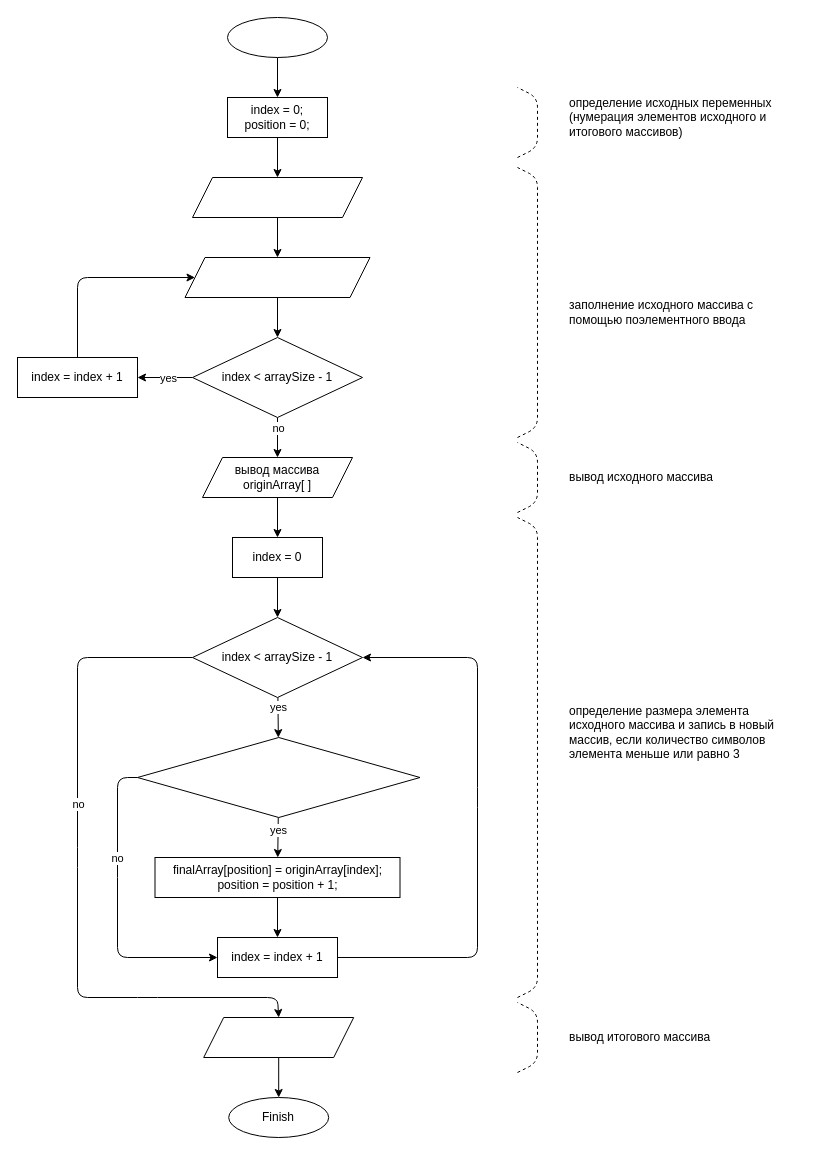
The diagram is 813 pixels wide and 1155 high, and some of its shapes have lost their labels. The shapes that lost their labels are listed below. From the top down, each one's box as (x1, y1, x2, y2) in pixels, then its label:
(226, 16, 328, 58): Start
(192, 176, 362, 218): ввод размера массива arraySize
(184, 256, 370, 298): ввод элемента массива originArray[index]
(136, 736, 420, 818): определение размера элемента originArray[index].Length < 4
(203, 1016, 354, 1058): вывод массива finalArray[ ]
